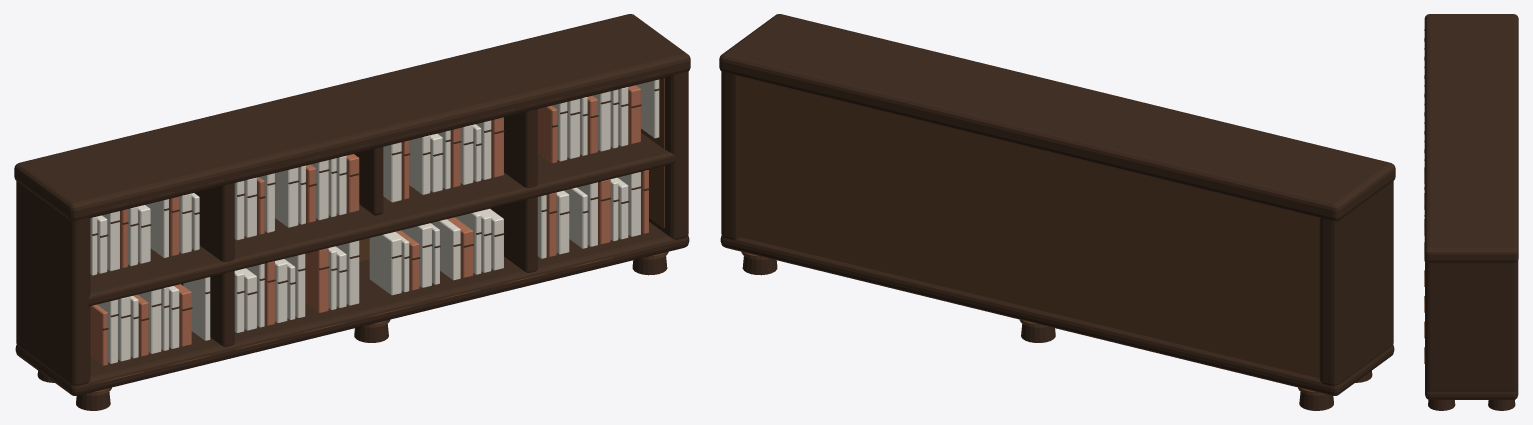
The model's file is bookcase_low.fbx.
3 views of the same model, side by side, from view 1: azimuth 30°, elevation 25°; view 2: azimuth 150°, elevation 25°; view 3: azimuth 270°, elevation 25° (orthographic). The views are drawn at different scales.
Visible parts, largest first — view 1: bookcase_low; view 2: bookcase_low; view 3: bookcase_low.
Boxes of the visible parts, bbox=[...] form: bookcase_low: bbox=[14, 14, 690, 410]; bookcase_low: bbox=[719, 14, 1395, 410]; bookcase_low: bbox=[1424, 14, 1518, 410].
Bounding box in the file's own units: 2.5 × 0.82 × 0.42.
